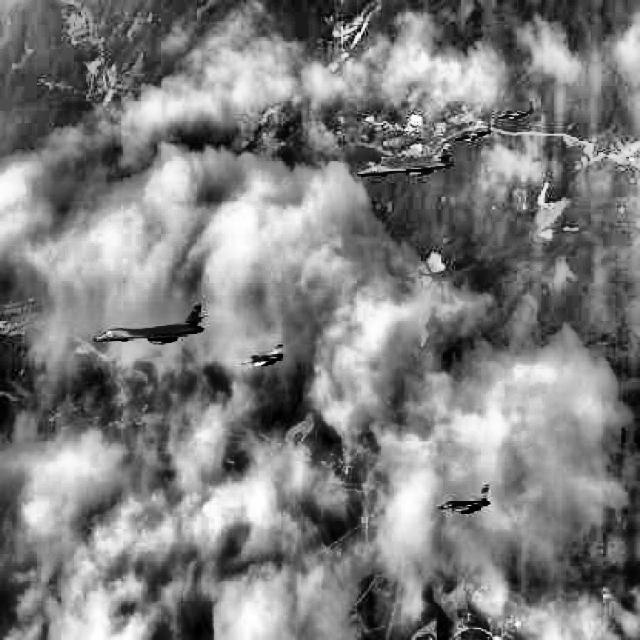B1: (92, 304, 208, 345), (356, 141, 455, 177)
F15: (496, 99, 535, 121), (452, 121, 494, 141)
F16: (434, 484, 492, 514), (240, 340, 285, 368)
